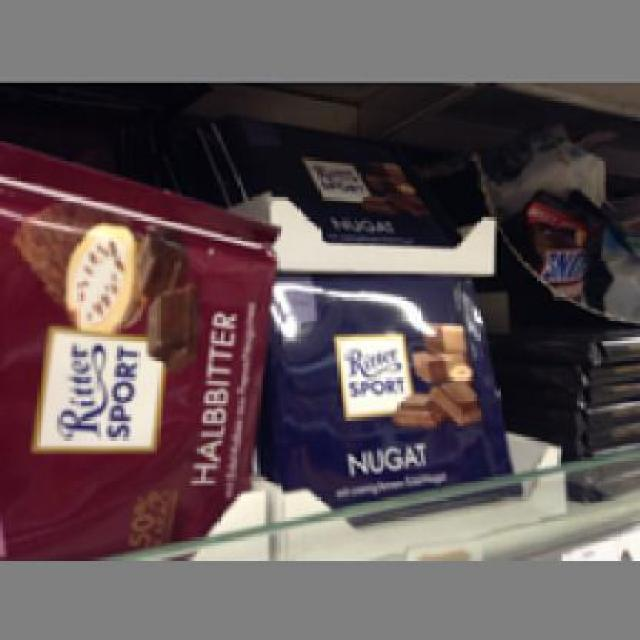Chocolate: (0, 131, 269, 560), (259, 268, 532, 518), (208, 114, 474, 246)
